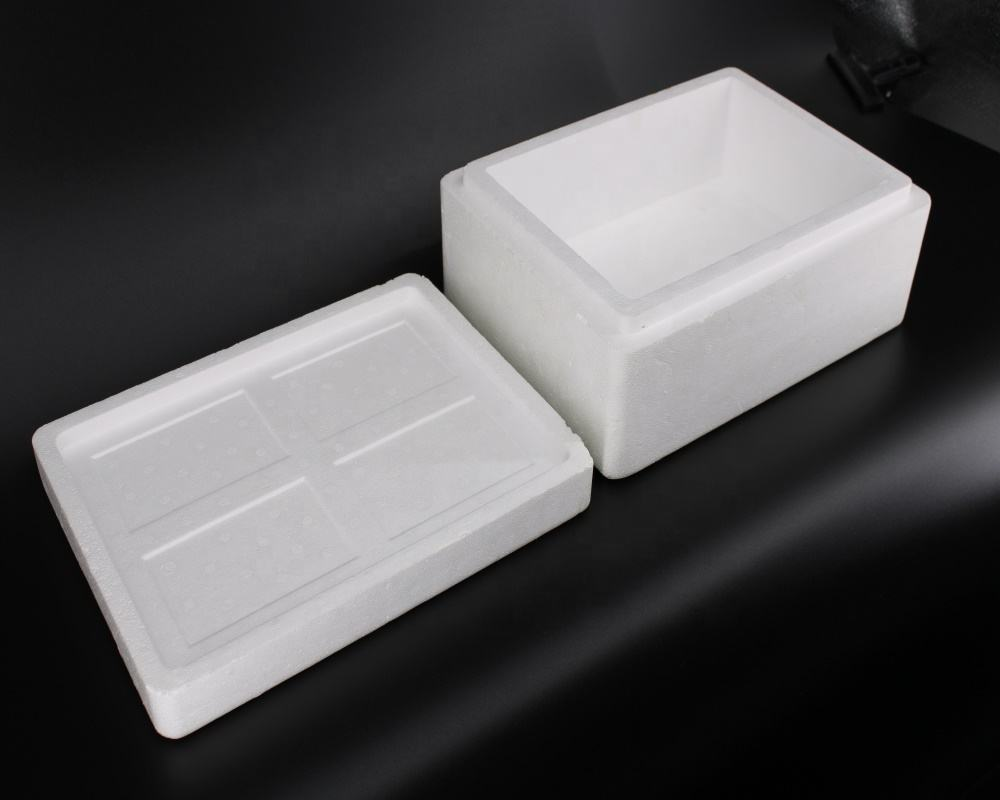泡沫箱: (441, 69, 930, 461)
